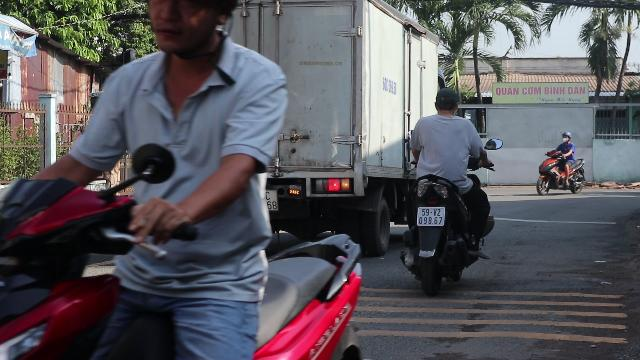licenseplate: (418, 207, 444, 225)
motorcyclist: (1, 0, 372, 356), (398, 87, 496, 290)
nohelmet: (432, 88, 460, 114)
